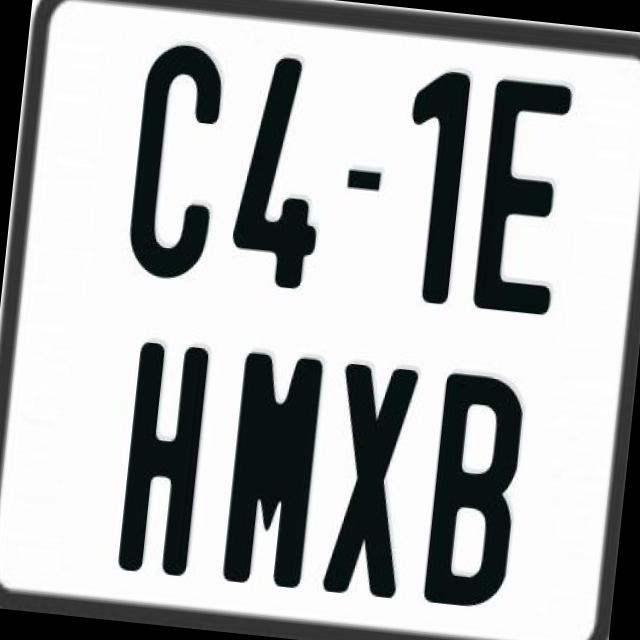1: (391, 63, 471, 303)
4: (224, 48, 334, 292)
B: (422, 367, 528, 611)
C: (122, 40, 225, 290)
E: (472, 72, 581, 312)
H: (115, 340, 210, 581)
M: (218, 350, 322, 594)
X: (322, 358, 422, 596)
